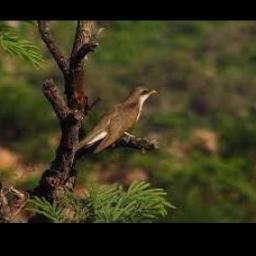Cuckoo: (73, 85, 157, 154)
